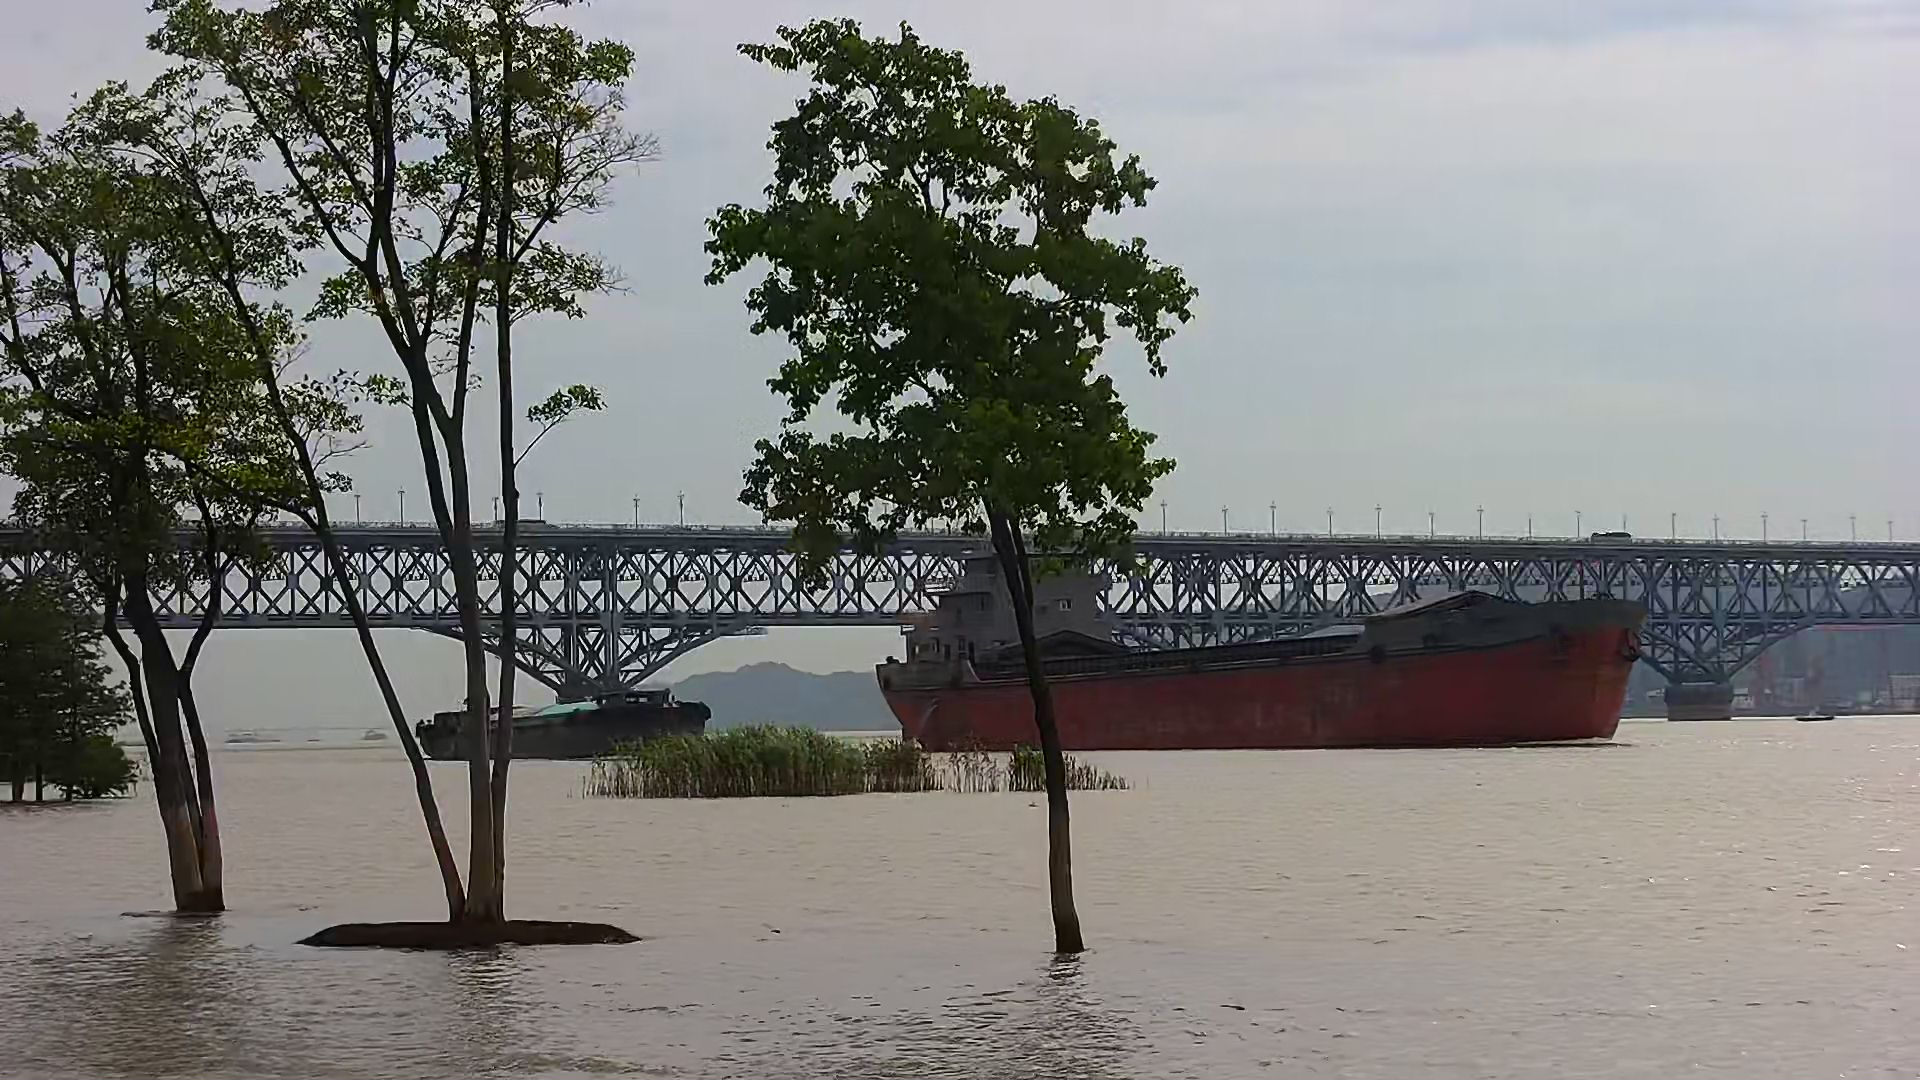bridge: (1, 481, 1920, 729)
grass: (549, 719, 1170, 802)
ship: (870, 599, 1647, 750), (382, 666, 736, 760)
tree: (671, 3, 1232, 981), (133, 1, 676, 956), (1, 69, 349, 935), (1, 555, 148, 812)
